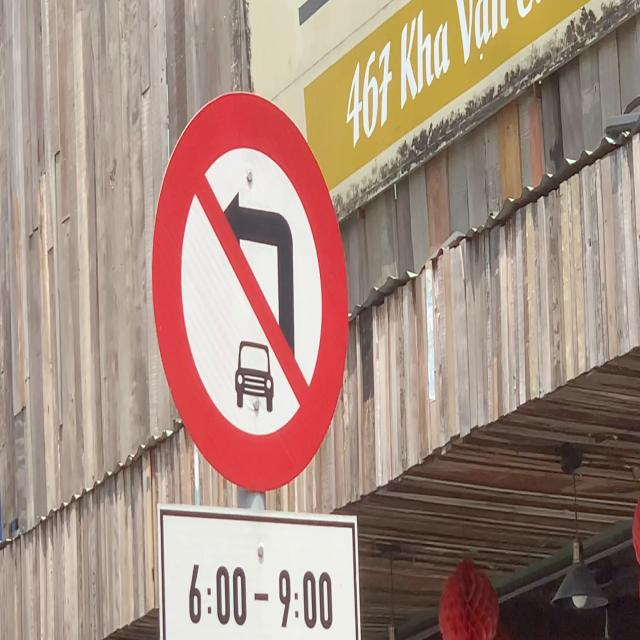Cam re trai: (149, 81, 353, 498)
